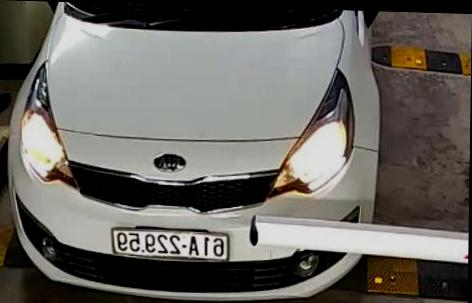License_Plate: (108, 218, 230, 269)
